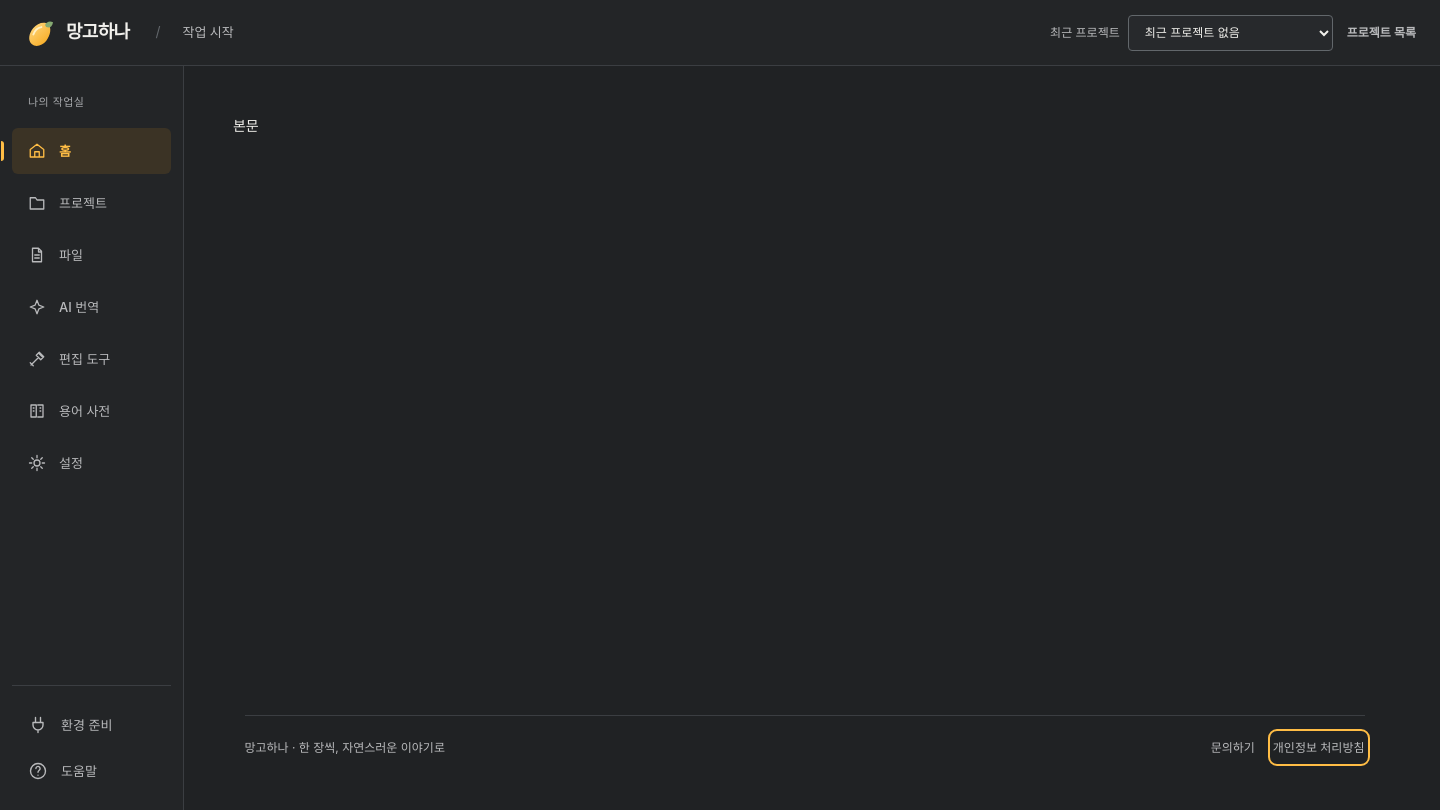
Scenario: AppShell › opens guide modal with topic-specific body and closes via close button or Escape key
Click the button "개인정보 처리방침". click: [1319, 748]
box: [1273,734,1364,761]
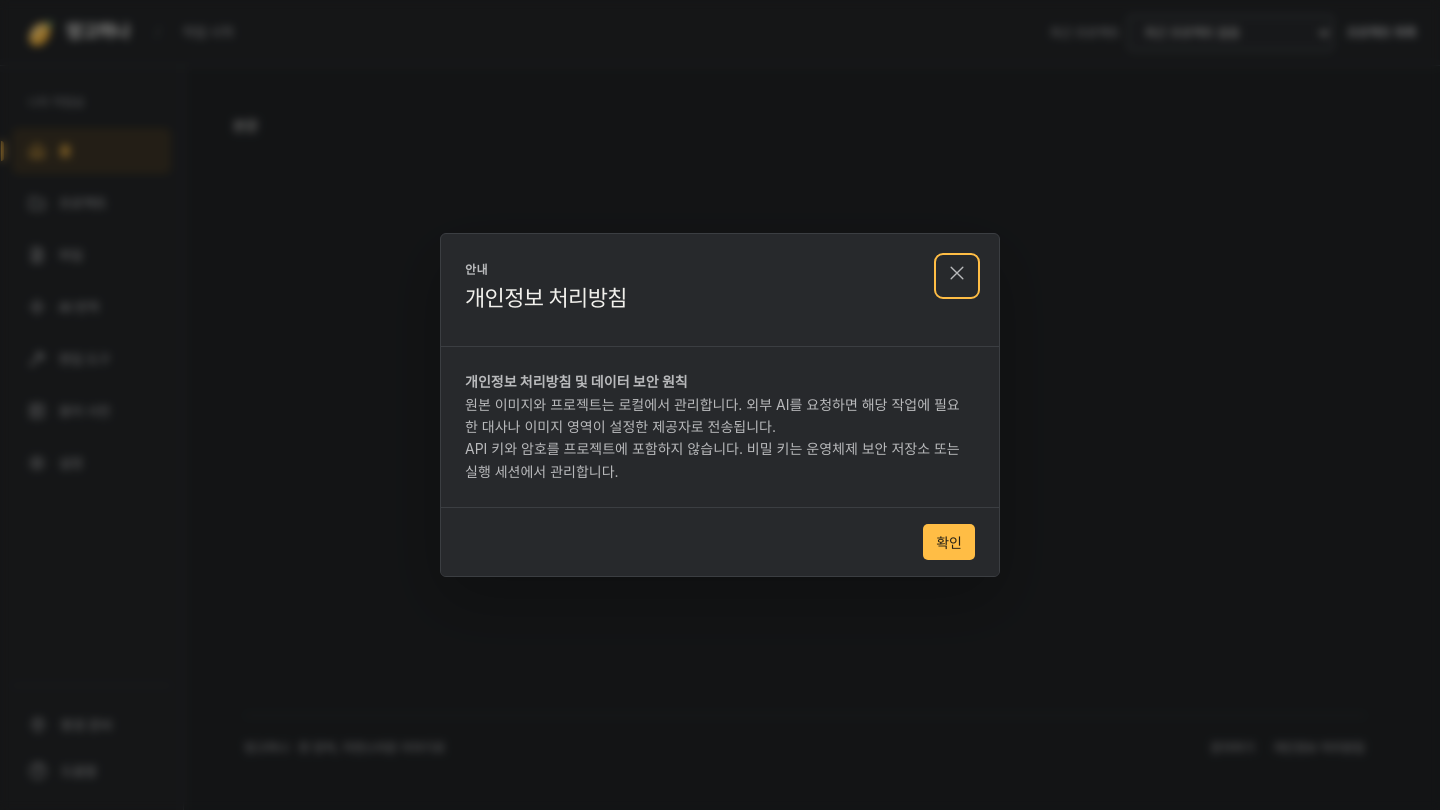
Result: the dialog "개인정보 처리방침" is shown at [440,233,1000,577]
Result: the text "개인정보 처리방침 및 데이터 보안 원칙" is shown at [465,373,688,390]
Press Tab
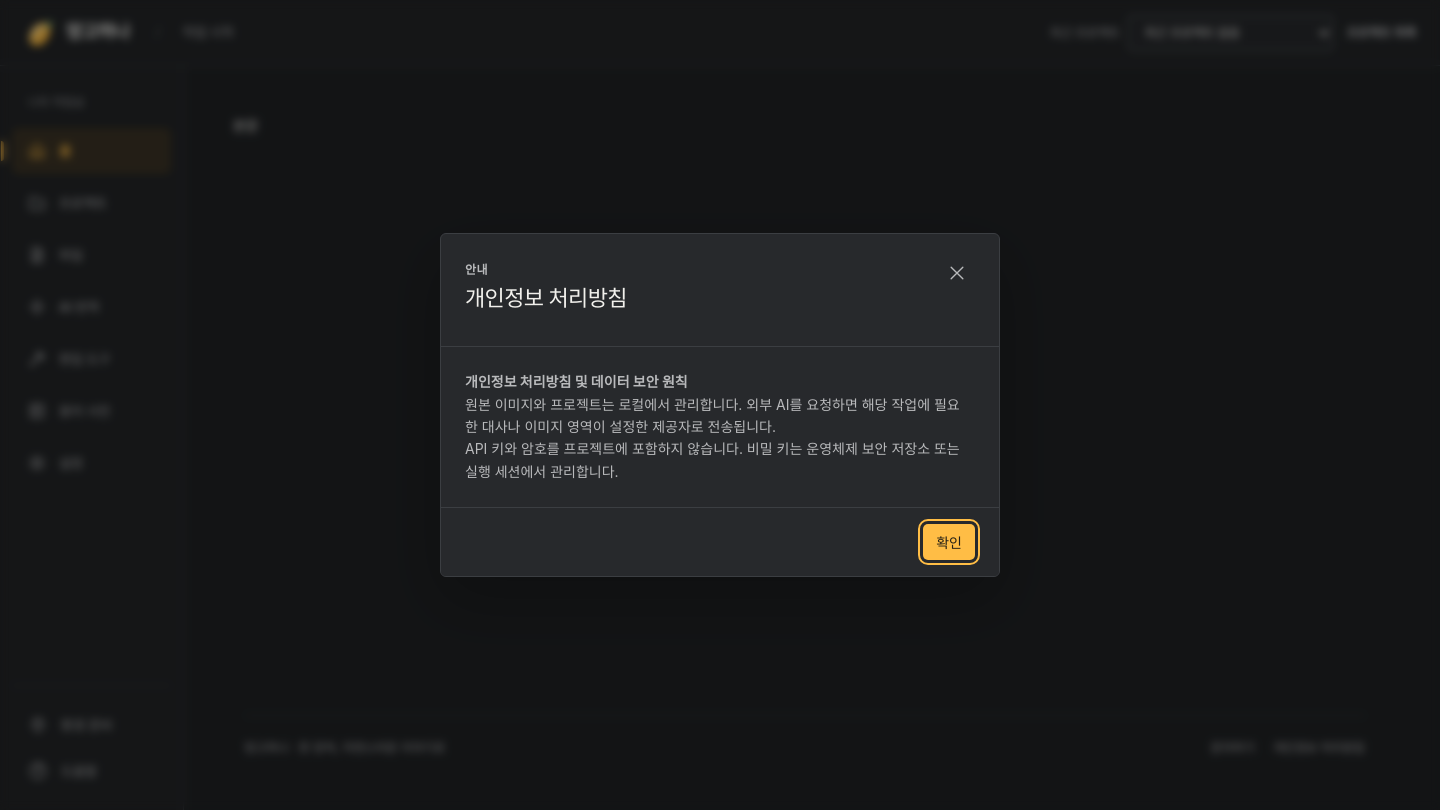
Press Escape
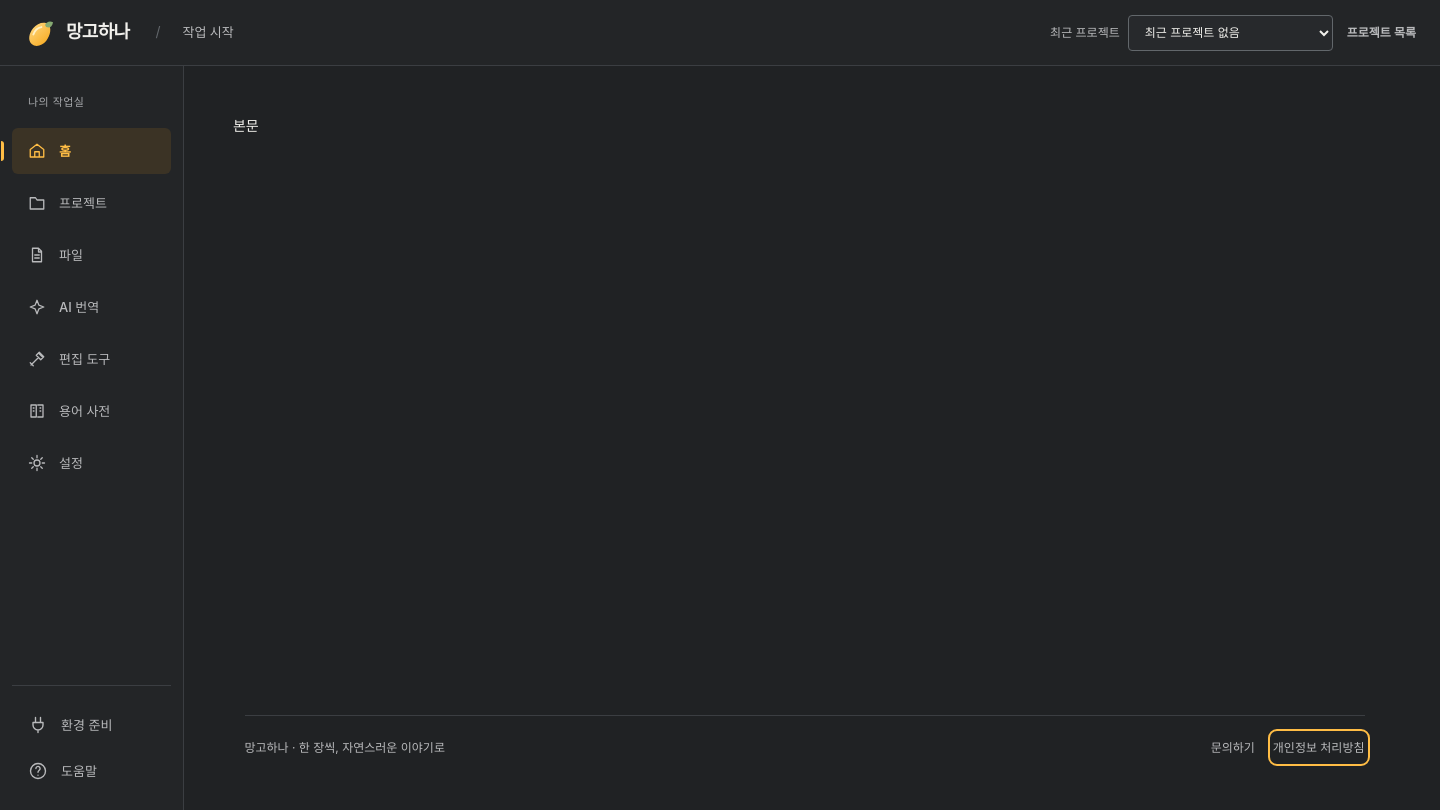
Result: the dialog is gone
